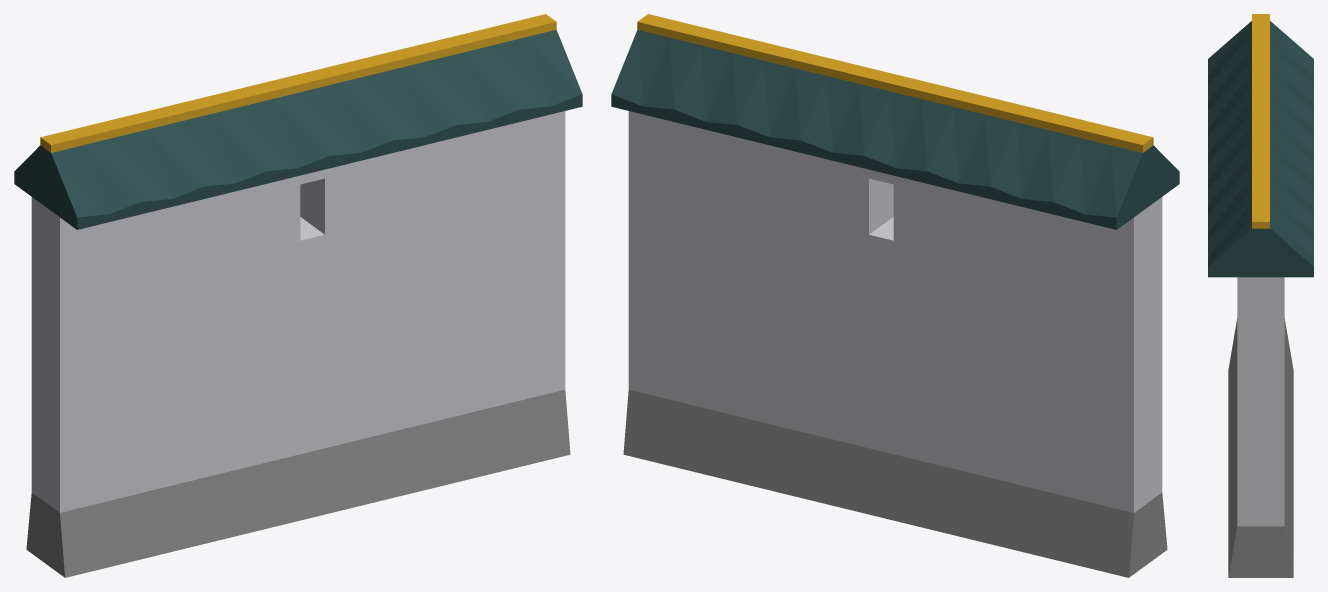
File: Asian_Prop_Building_Fence_Wall_Simple_Embrasure_04.FBX
The picture shows the model from 3 angles, left to right: view 1: azimuth 30°, elevation 25°; view 2: azimuth 150°, elevation 25°; view 3: azimuth 270°, elevation 25°; orthographic projection. The views are drawn at different scales.
Parts seen in each view (by area): view 1: Asian_Prop_Building_Fence_Wall_Simple_Embrasure_04; view 2: Asian_Prop_Building_Fence_Wall_Simple_Embrasure_04; view 3: Asian_Prop_Building_Fence_Wall_Simple_Embrasure_04.
Boxes of the visible parts, x1=… form: Asian_Prop_Building_Fence_Wall_Simple_Embrasure_04: x1=14, y1=14, x2=582, y2=577; Asian_Prop_Building_Fence_Wall_Simple_Embrasure_04: x1=611, y1=14, x2=1179, y2=577; Asian_Prop_Building_Fence_Wall_Simple_Embrasure_04: x1=1208, y1=14, x2=1313, y2=577.
Size of the model in its own units: 5167 by 4128 by 1112.
